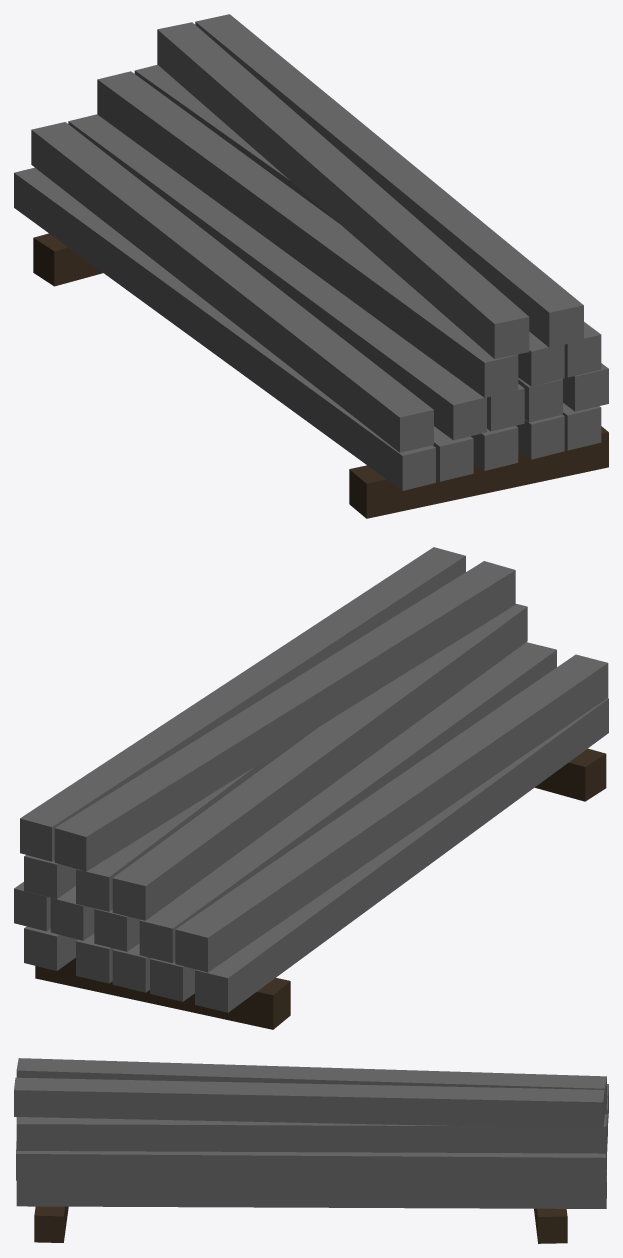
Rendered from SteelStack.fbx.
The picture shows the model from 3 angles, top to bottom: view 1: azimuth 30°, elevation 25°; view 2: azimuth 150°, elevation 25°; view 3: azimuth 270°, elevation 25°; orthographic projection. The views are drawn at different scales.
Parts seen in each view (by area): view 1: Cube.004; view 2: Cube.004; view 3: Cube.004.
Part boxes in pixels (box(x1,y1,x2,y2)): Cube.004: box(14, 14, 608, 518); Cube.004: box(14, 547, 608, 1029); Cube.004: box(14, 1058, 608, 1243).
Bounding box in the file's own units: 142 × 103 × 403.
